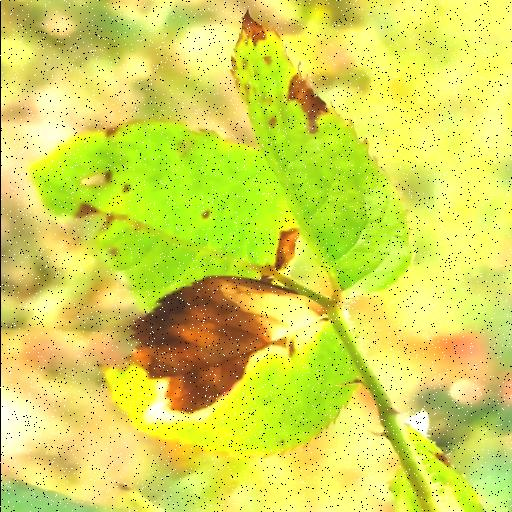thrip: (232, 18, 412, 294), (32, 122, 294, 307), (106, 275, 358, 457)
